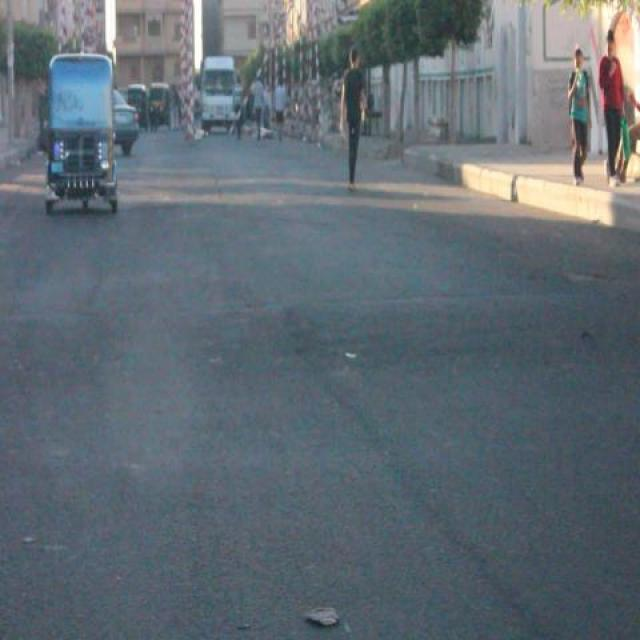Unmarked Bump: (0, 292, 640, 383)
